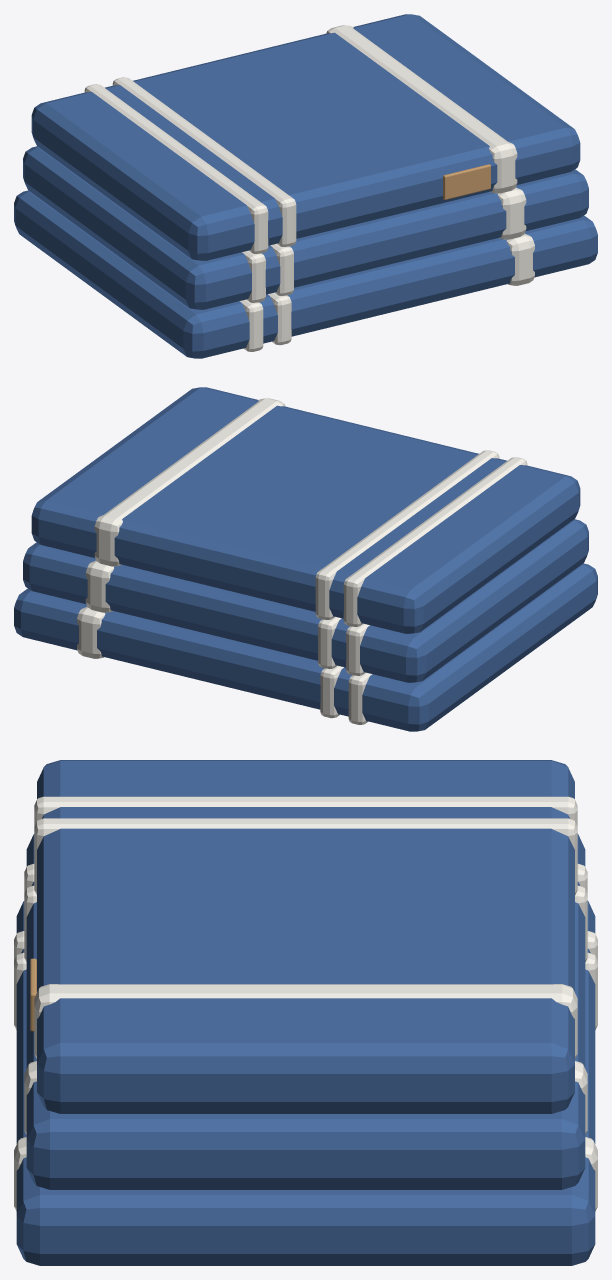
Rendered from hh_cat_blanket.glb.
3 renders of one model, top to bottom at view 1: azimuth 30°, elevation 25°; view 2: azimuth 150°, elevation 25°; view 3: azimuth 270°, elevation 25°, orthographic. The views are drawn at different scales.
Visible parts, largest first — view 1: blanket.002, blanket, blanket.001, stripe.008, stripe.007, stripe.006, label, stripe.005, stripe.002, stripe, stripe.001, stripe.003 (+1 smaller); view 2: blanket.002, blanket, blanket.001, stripe.008, stripe.007, stripe.006, stripe.005, stripe.002, stripe, stripe.001, stripe.003, stripe.004; view 3: blanket.002, blanket, blanket.001, stripe.008, stripe.007, stripe.006, stripe.002, stripe.005, stripe.001, stripe.004.
Part boxes in pixels (x1,y1,x2,y2): blanket.002: (31,14,580,260); blanket: (14,190,597,358); blanket.001: (23,146,588,309); stripe.008: (326,25,517,193); stripe.007: (112,77,296,246); stripe.006: (84,84,268,253); label: (443,164,490,199); stripe.005: (498,187,526,239); stripe.002: (506,233,534,285); stripe: (239,299,263,351); stripe.001: (268,292,291,345); stripe.003: (242,250,265,302); blanket.002: (31,387,580,633); blanket: (14,563,597,731); blanket.001: (23,519,588,682); stripe.008: (94,398,285,566); stripe.007: (315,450,499,619); stripe.006: (343,457,527,626); stripe.005: (85,560,113,612); stripe.002: (77,606,105,658); stripe: (348,672,372,724); stripe.001: (320,665,343,718); stripe.003: (346,623,369,675); stripe.004: (318,616,341,668); blanket.002: (37,760,574,1113); blanket: (16,901,595,1265); blanket.001: (26,834,585,1189); stripe.008: (34,984,577,1058); stripe.007: (34,818,577,895); stripe.006: (34,796,577,826); stripe.002: (14,1137,597,1211); stripe.005: (24,1061,587,1134); stripe.001: (14,952,597,1029); stripe.004: (24,885,587,962).
Size of the model in its own units: 0.44 by 0.14 by 0.34.
